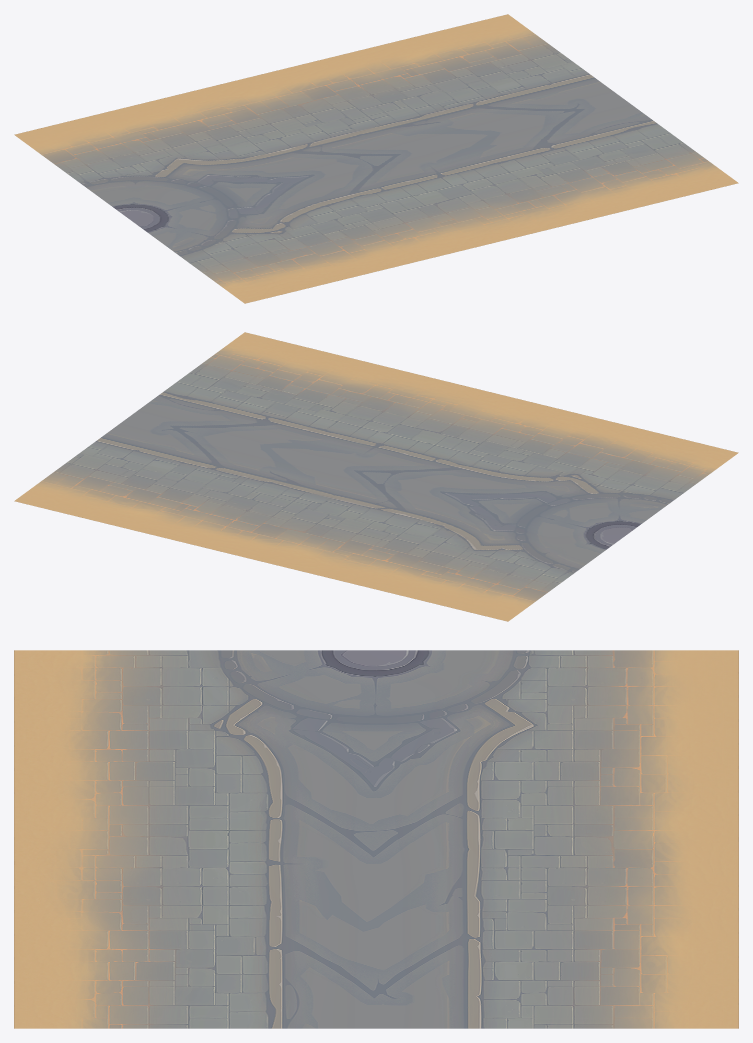
File: Bridge333.FBX
3 renders of one model, top to bottom at view 1: azimuth 30°, elevation 25°; view 2: azimuth 150°, elevation 25°; view 3: azimuth 270°, elevation 25°, orthographic. The views are drawn at different scales.
Parts seen in each view (by area): view 1: Bridge333; view 2: Bridge333; view 3: Bridge333.
Boxes of the visible parts, <box> form: Bridge333: <box>14,14,738,303</box>; Bridge333: <box>14,332,738,621</box>; Bridge333: <box>14,650,738,1028</box>.
Size of the model in its own units: 32.03 by 2.8e-06 by 25.92.
1 material, 1 textured.
